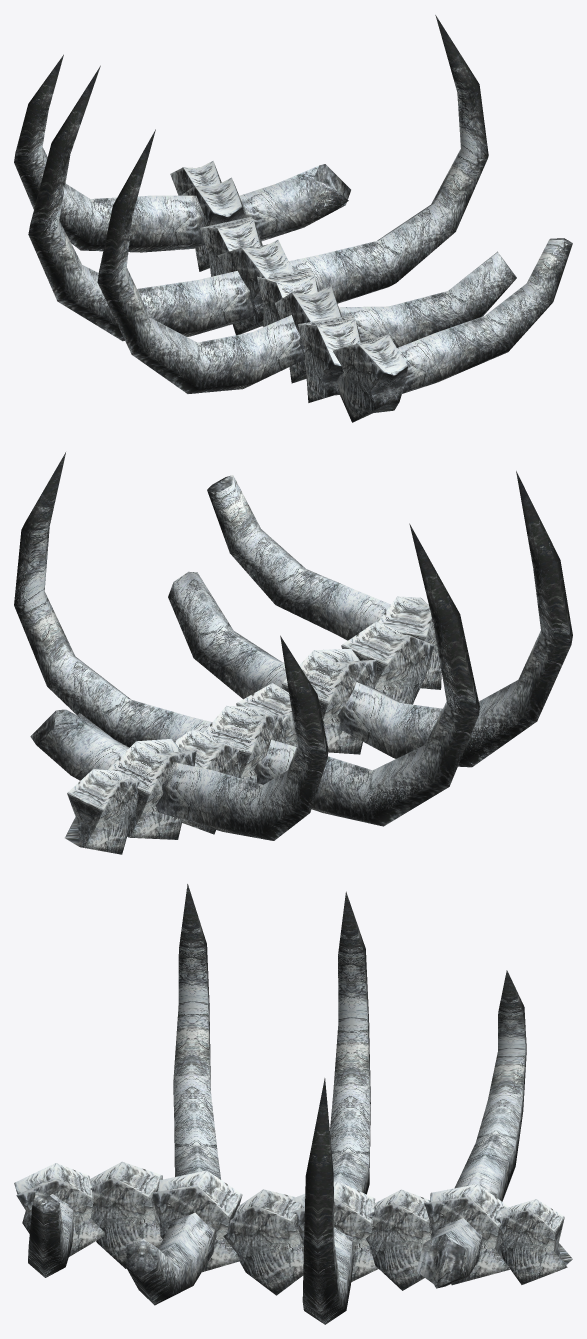
Rendered from ice_dragonbone_04.fbx.
3 views of the same model, one above another, from view 1: azimuth 30°, elevation 25°; view 2: azimuth 150°, elevation 25°; view 3: azimuth 270°, elevation 25° (orthographic). The views are drawn at different scales.
Visible parts, largest first — view 1: ice_dragonbone_04; view 2: ice_dragonbone_04; view 3: ice_dragonbone_04.
Boxes of the visible parts, left/top/right/bottom form: ice_dragonbone_04: left=14, top=15, right=572, bottom=422; ice_dragonbone_04: left=14, top=452, right=572, bottom=854; ice_dragonbone_04: left=14, top=884, right=572, bottom=1324.
Size of the model in its own units: 14.47 by 9.31 by 15.02.
